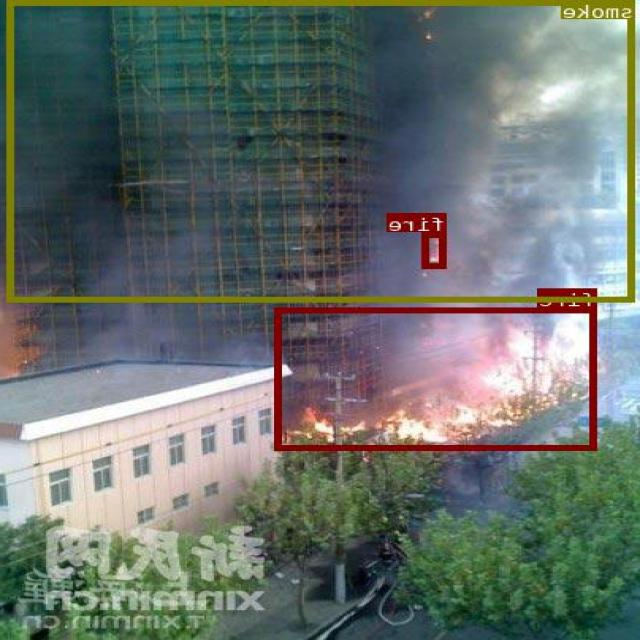fire: (277, 306, 597, 449), (423, 232, 448, 267)
smoke: (9, 0, 637, 301)
